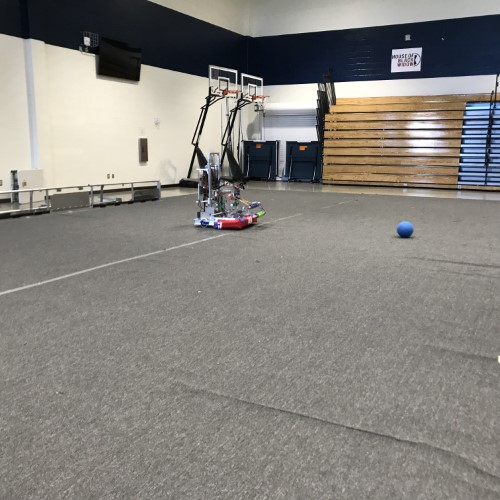blue: (395, 220, 415, 239)
